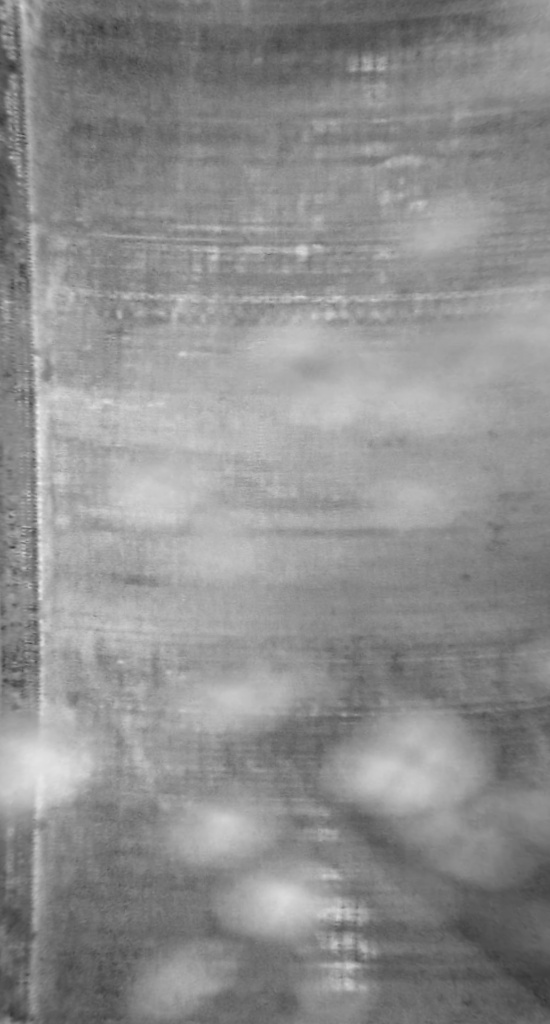splice: (1, 3, 97, 1024)
